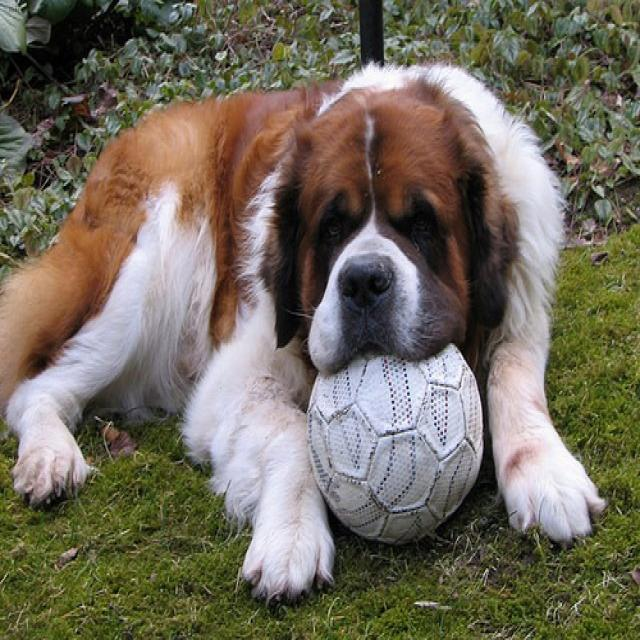dog-saint_bernard: (1, 48, 617, 616)
